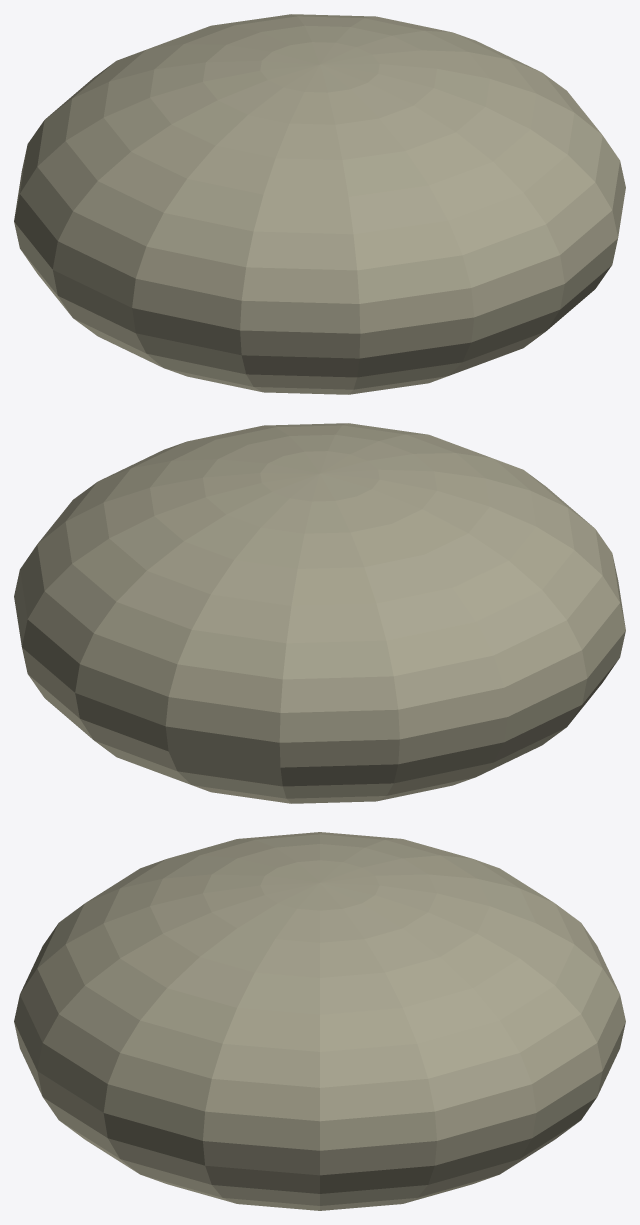
Rendered from assetd.dae.
The picture shows the model from 3 angles, top to bottom: view 1: azimuth 30°, elevation 25°; view 2: azimuth 150°, elevation 25°; view 3: azimuth 270°, elevation 25°; orthographic projection.
Parts seen in each view (by area): view 1: Shape_Sphere; view 2: Shape_Sphere; view 3: Shape_Sphere.
Boxes of the visible parts, x1=… form: Shape_Sphere: x1=14, y1=14, x2=625, y2=394; Shape_Sphere: x1=14, y1=423, x2=625, y2=803; Shape_Sphere: x1=14, y1=832, x2=625, y2=1210.
Bounding box in the file's own units: 14 × 7 × 14.
